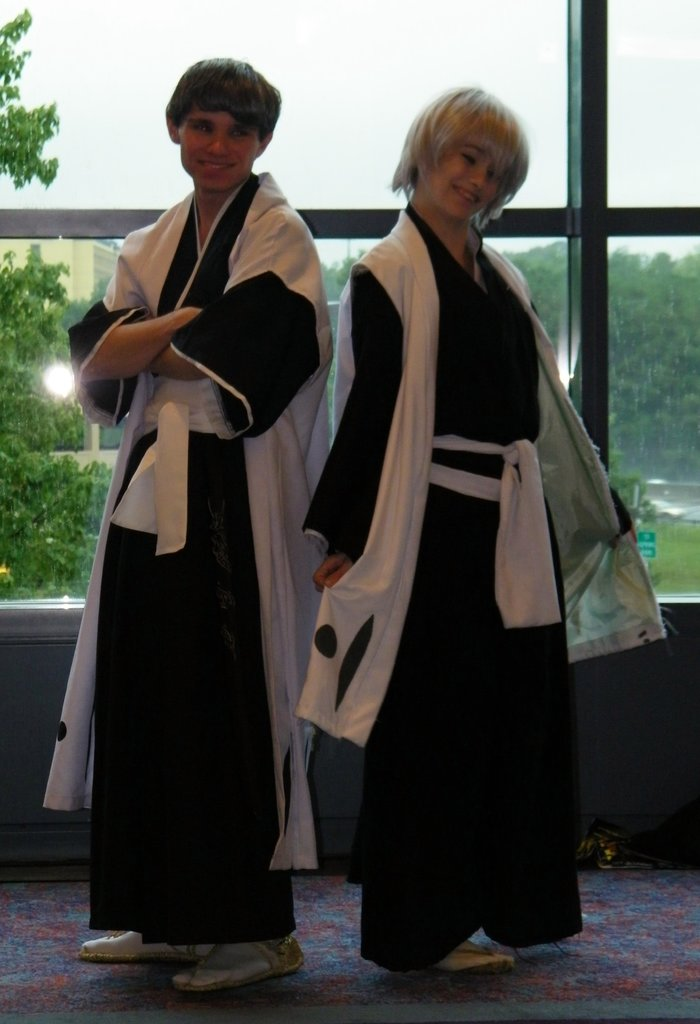Person: (42, 56, 333, 992)
